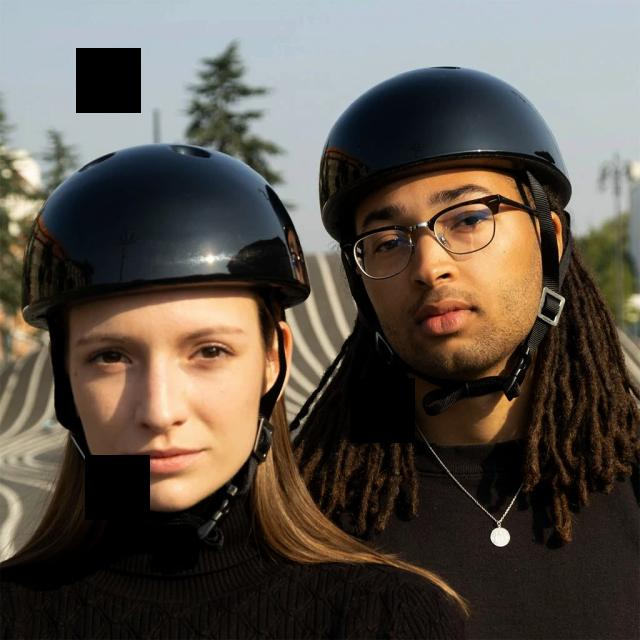Helmet: (21, 143, 311, 509), (320, 64, 574, 384)
